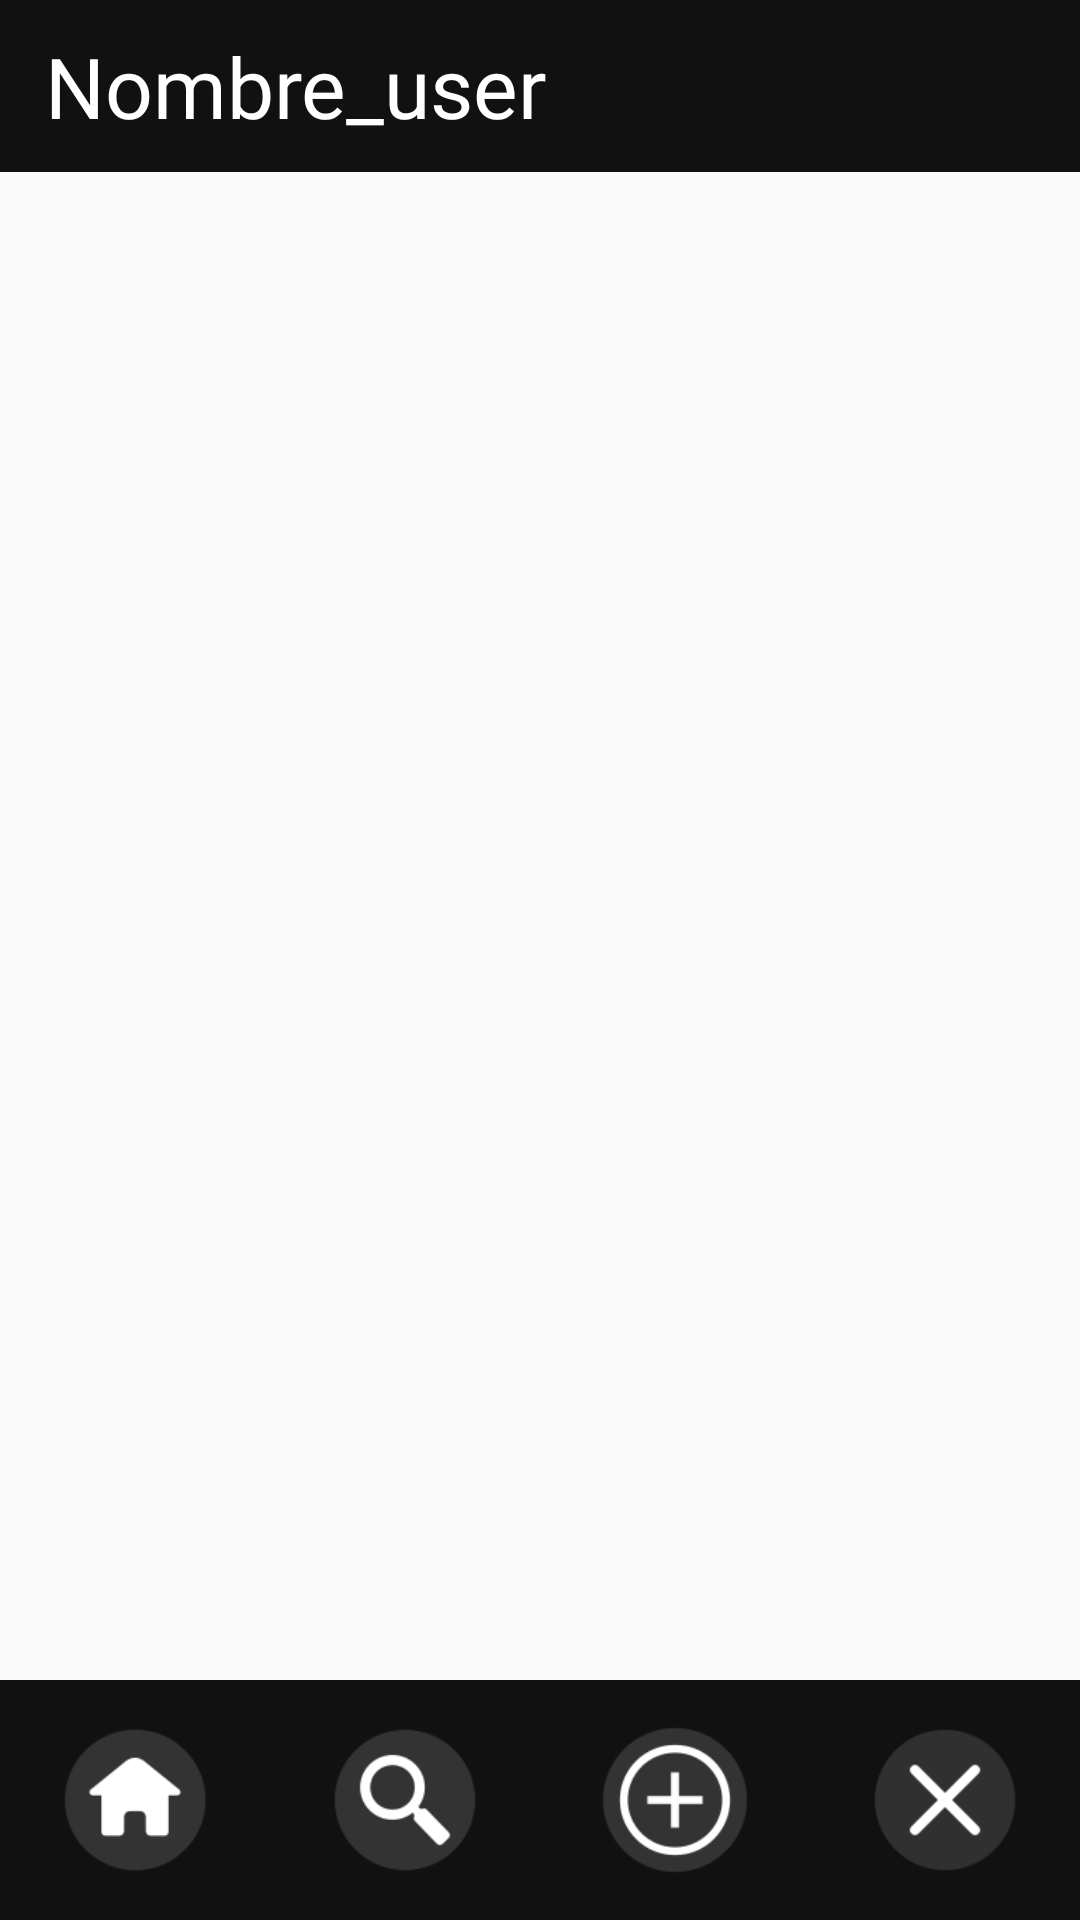

Locate icon controls on the screen. Image size 1080 x 1920, boxes as (x1, y1, x2, y2).
agregar: (603, 1728, 746, 1871)
letrax: (875, 1730, 1015, 1870)
